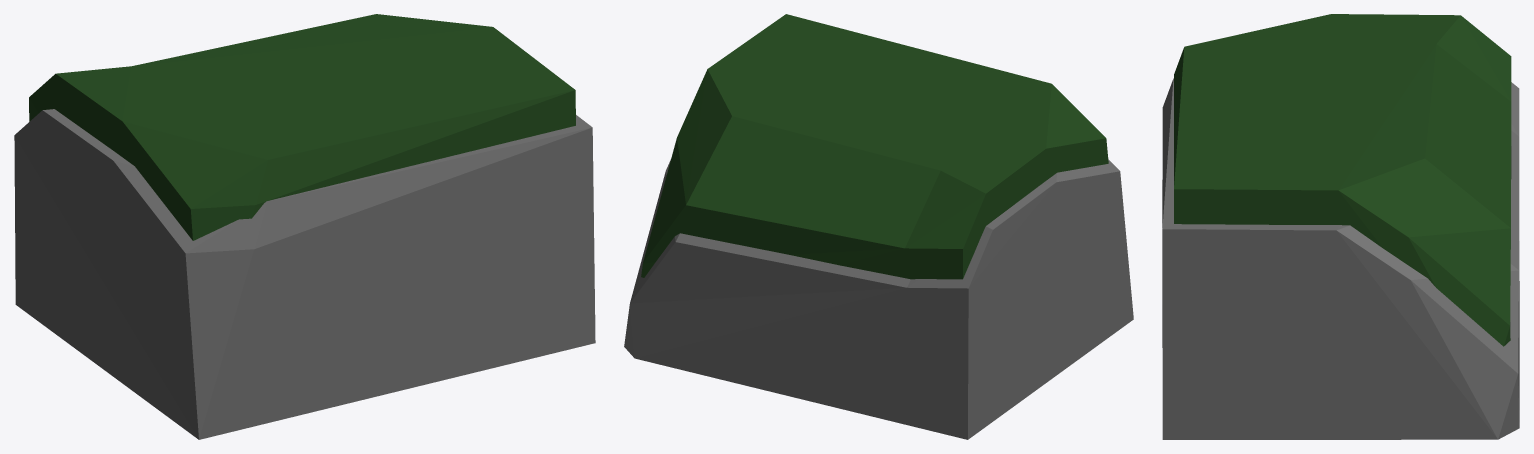
The model's file is SM_stoneblock_jungle_02.fbx.
The picture shows the model from 3 angles, left to right: view 1: azimuth 30°, elevation 25°; view 2: azimuth 150°, elevation 25°; view 3: azimuth 270°, elevation 25°; orthographic projection. The views are drawn at different scales.
Parts seen in each view (by area): view 1: Object061; view 2: Object061; view 3: Object061.
Part boxes in pixels (x1,y1,x2,y2): Object061: [14, 14, 595, 439]; Object061: [624, 14, 1133, 439]; Object061: [1162, 14, 1519, 439].
Size of the model in its own units: 40.14 by 24.42 by 32.37.
